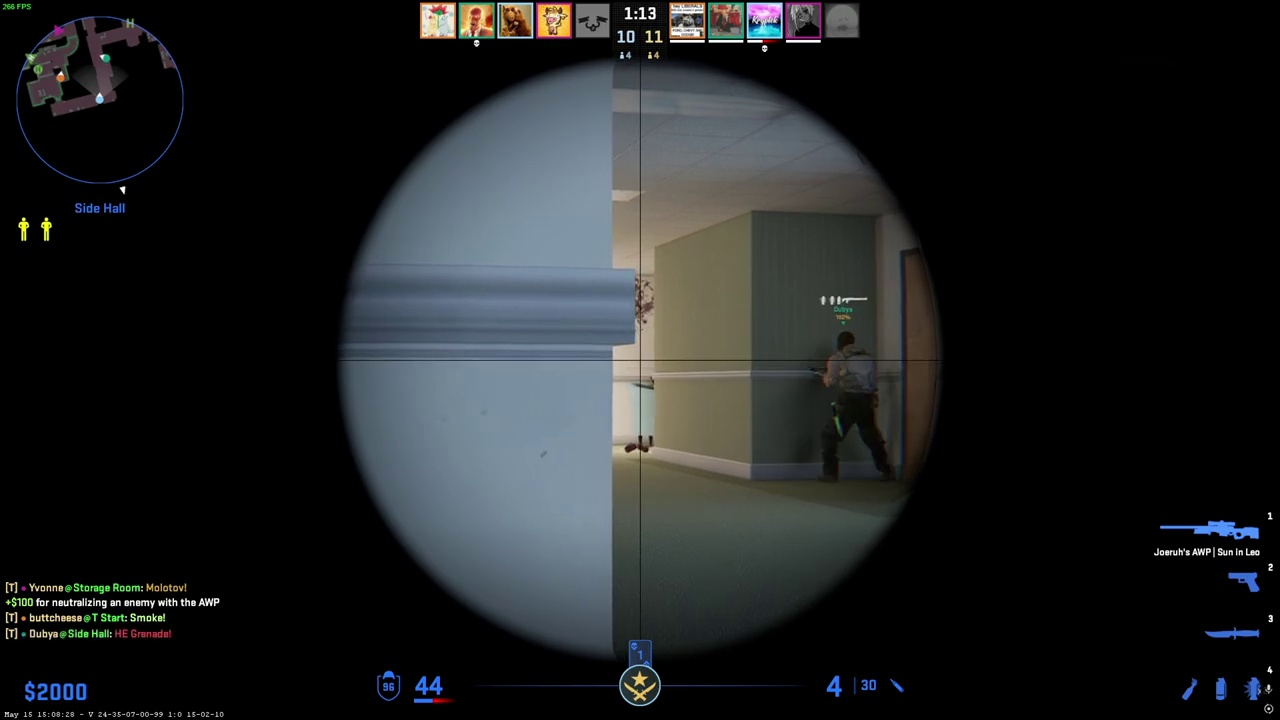Terrorist: (819, 331, 890, 482)
